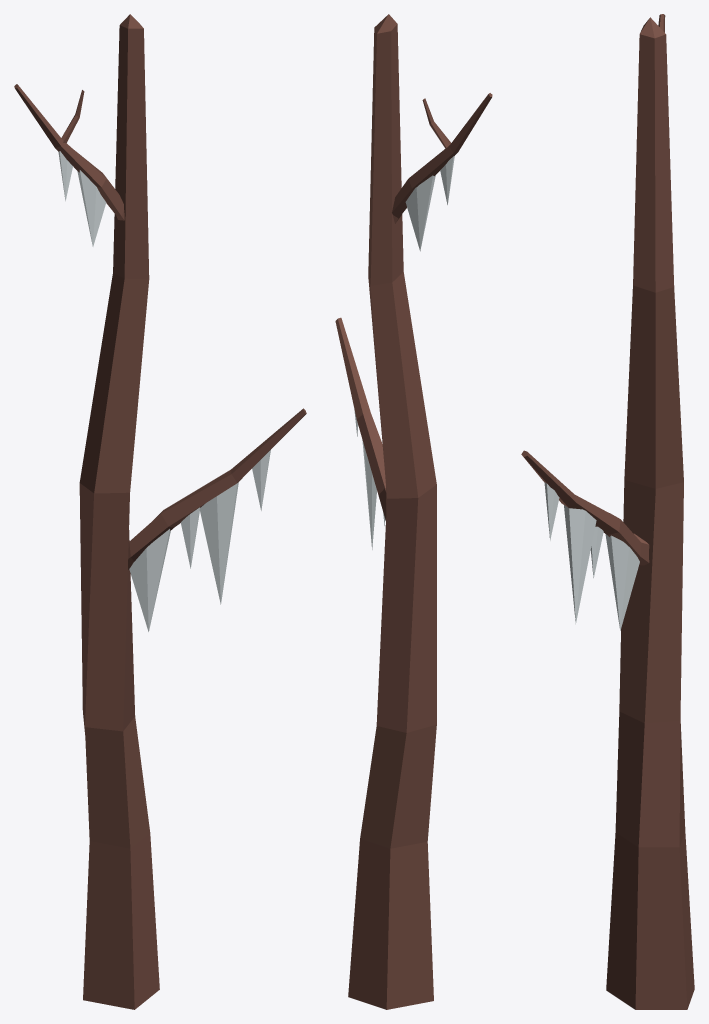
The model's file is arbre_3.fbx.
3 views of the same model, side by side, from view 1: azimuth 30°, elevation 25°; view 2: azimuth 150°, elevation 25°; view 3: azimuth 270°, elevation 25° (orthographic).
Visible parts, largest first — view 1: pCube6, pCube7, pCube16, pCube15, pCube10, pCube11; view 2: pCube6, pCube7, pCube10, pCube11, pCube16; view 3: pCube6, pCube16, pCube7, pCube15.
Boxes of the visible parts, x1,y1,x2,y2 form: pCube6: [79, 14, 159, 1009]; pCube7: [128, 408, 306, 569]; pCube16: [200, 450, 270, 604]; pCube15: [129, 507, 199, 631]; pCube10: [14, 84, 124, 220]; pCube11: [77, 170, 106, 246]; pCube6: [348, 14, 436, 1009]; pCube7: [335, 317, 386, 520]; pCube10: [392, 93, 492, 223]; pCube11: [405, 175, 435, 251]; pCube16: [354, 409, 376, 549]; pCube6: [606, 17, 694, 1009]; pCube16: [544, 482, 596, 624]; pCube7: [521, 450, 649, 565]; pCube15: [590, 526, 639, 630].
Size of the model in its own units: 1.15 by 4.77 by 0.7638.
